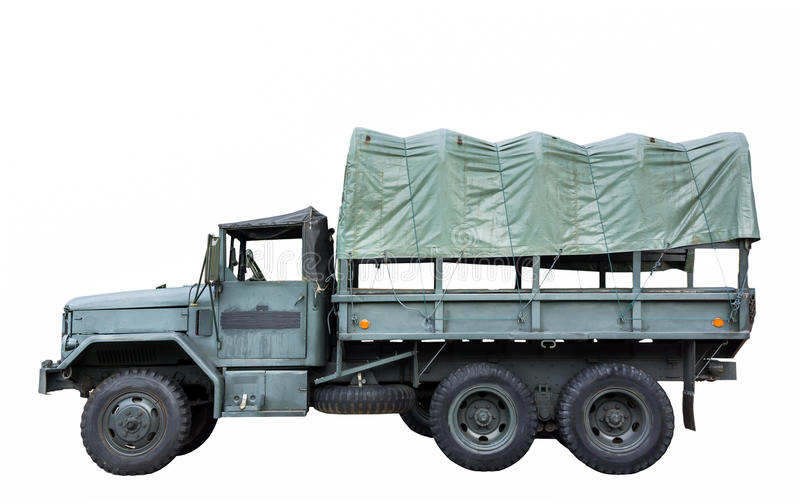camion: (40, 135, 760, 476)
